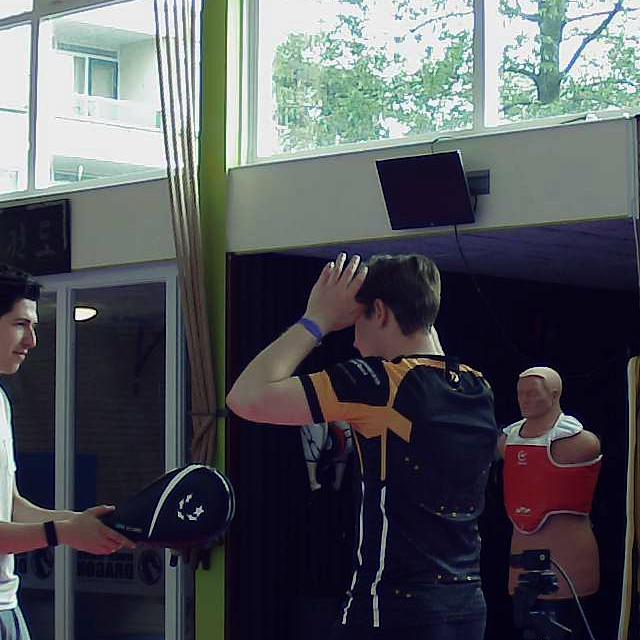paddle: (94, 465, 234, 548)
